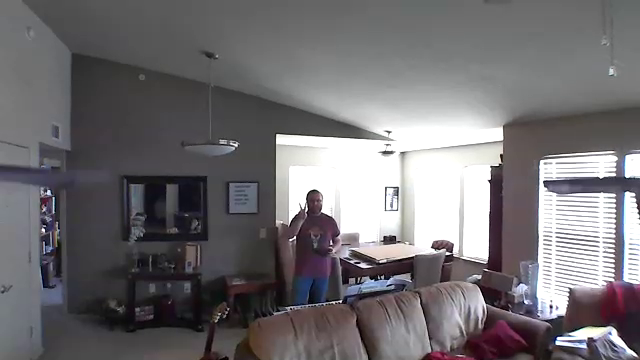peace: (294, 199, 310, 223)
